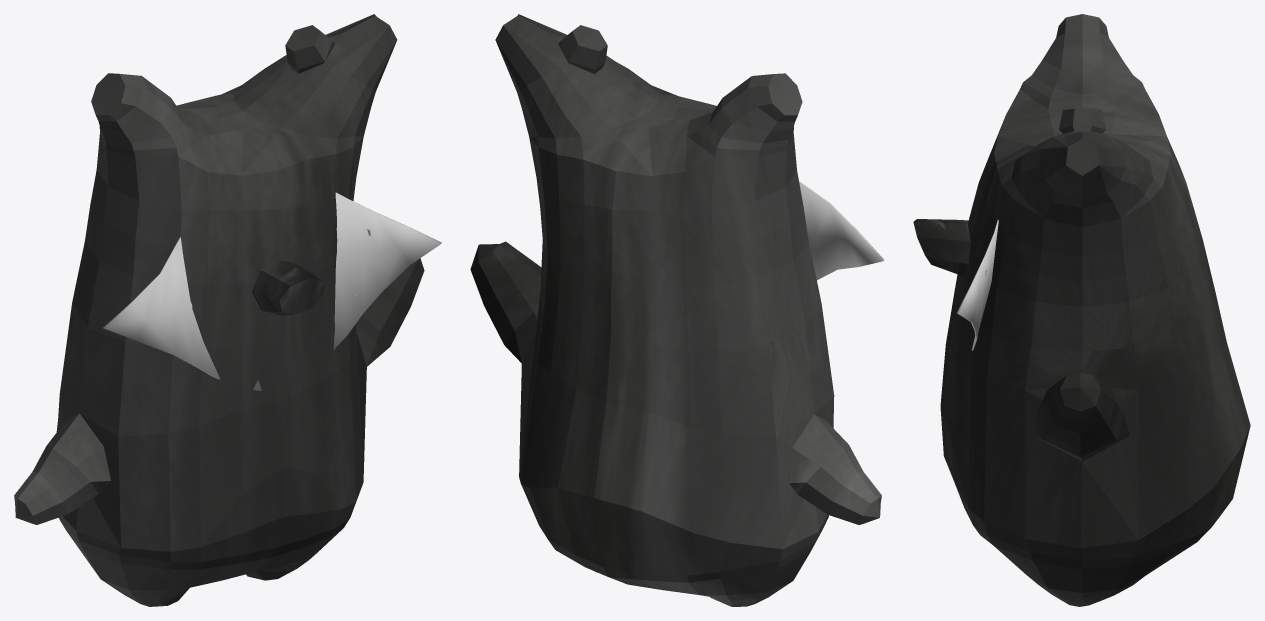
File: frame_0045.obj
The picture shows the model from 3 angles, left to right: view 1: azimuth 30°, elevation 25°; view 2: azimuth 150°, elevation 25°; view 3: azimuth 270°, elevation 25°; orthographic projection. The views are drawn at different scales.
Parts seen in each view (by area): view 1: korok, leaf, nose; view 2: korok, leaf; view 3: korok, nose, leaf.
Boxes of the visible parts, x1,y1,x2,y2 form: korok: (14, 14, 424, 606); leaf: (103, 192, 441, 390); nose: (252, 260, 323, 315); korok: (470, 14, 881, 606); leaf: (799, 181, 883, 280); korok: (940, 14, 1250, 606); nose: (913, 219, 970, 275); leaf: (956, 220, 998, 350).
Bounding box in the file's own units: 1.69 × 2.16 × 1.27.
